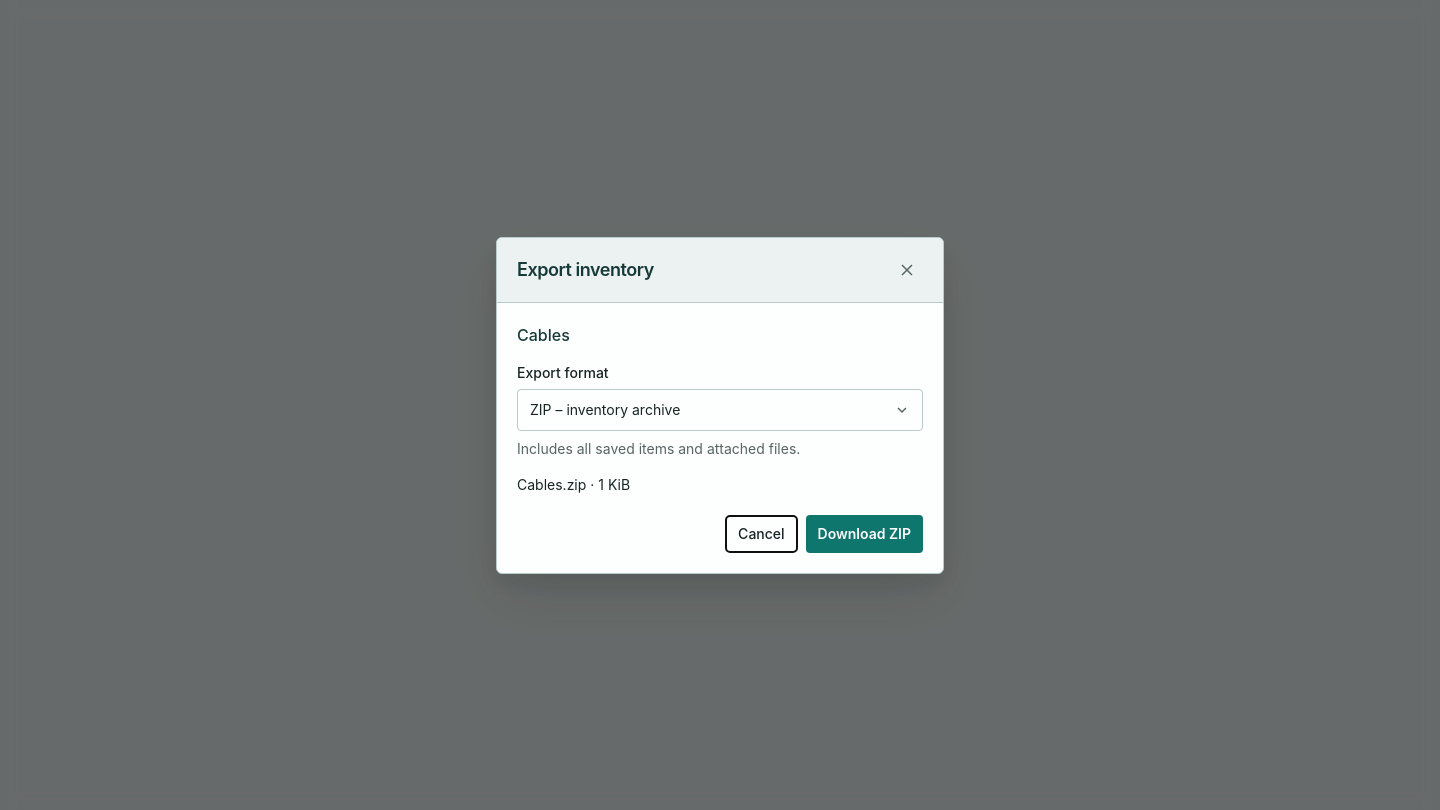
it: requires a fresh export after expiry
This screenshot has width=1440, height=810.
Click the button "Download ZIP" at (864, 534), box [806, 514, 923, 552]
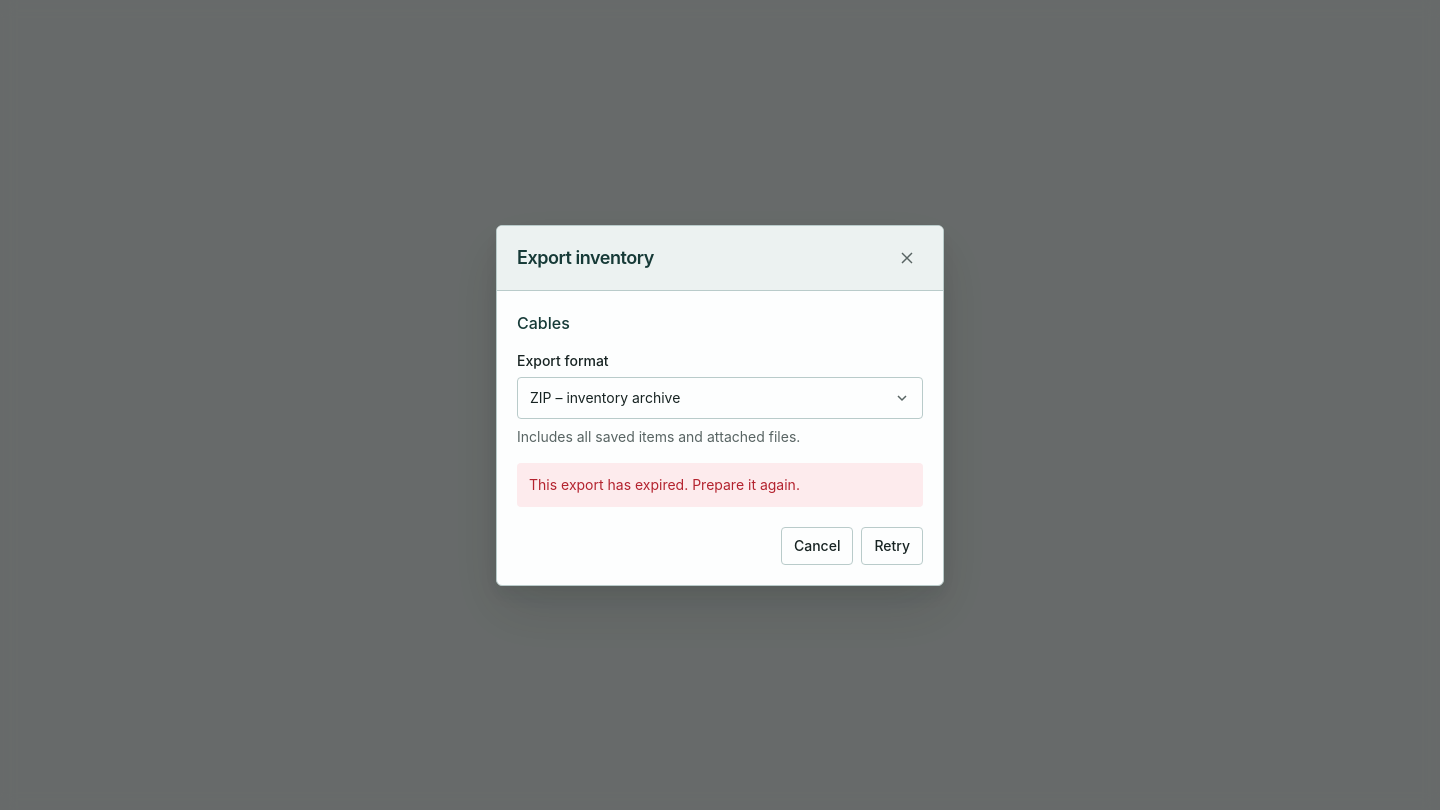
Result: the message shows "export has expired" at [529, 476, 800, 492]
Result: the button "Retry" is shown at [861, 526, 923, 564]
